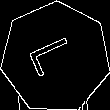L_NE: (27, 33, 84, 82)
